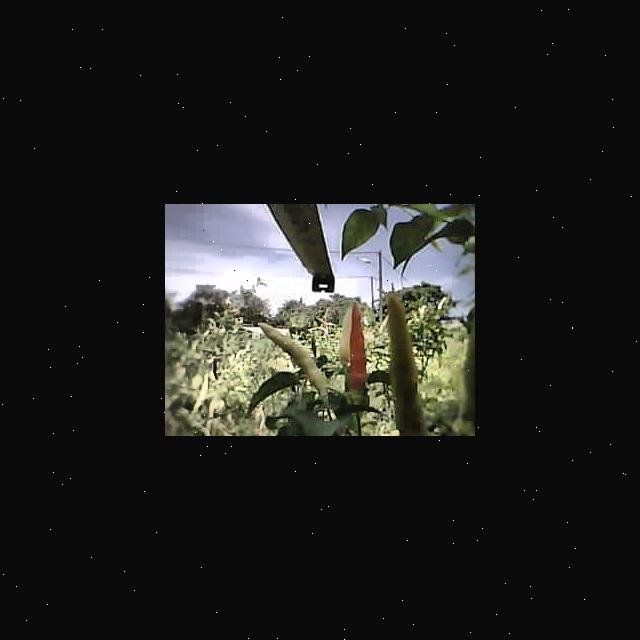Cabai: (350, 302, 373, 392)
